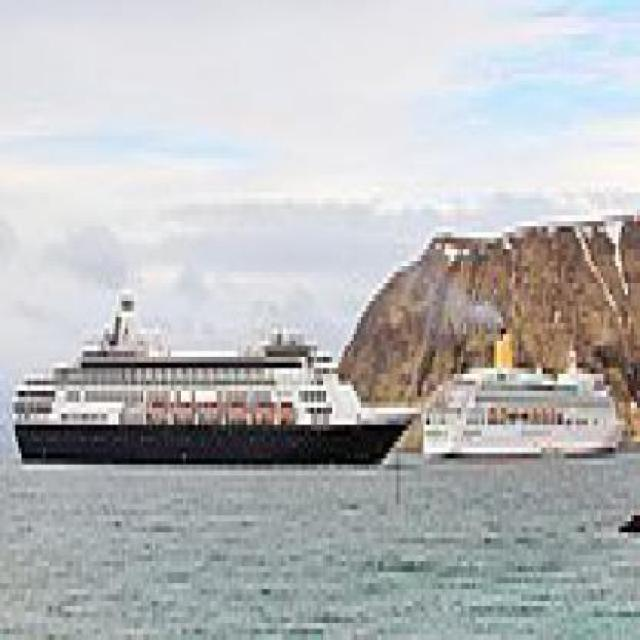cruise: (3, 284, 431, 489), (401, 307, 635, 483)
